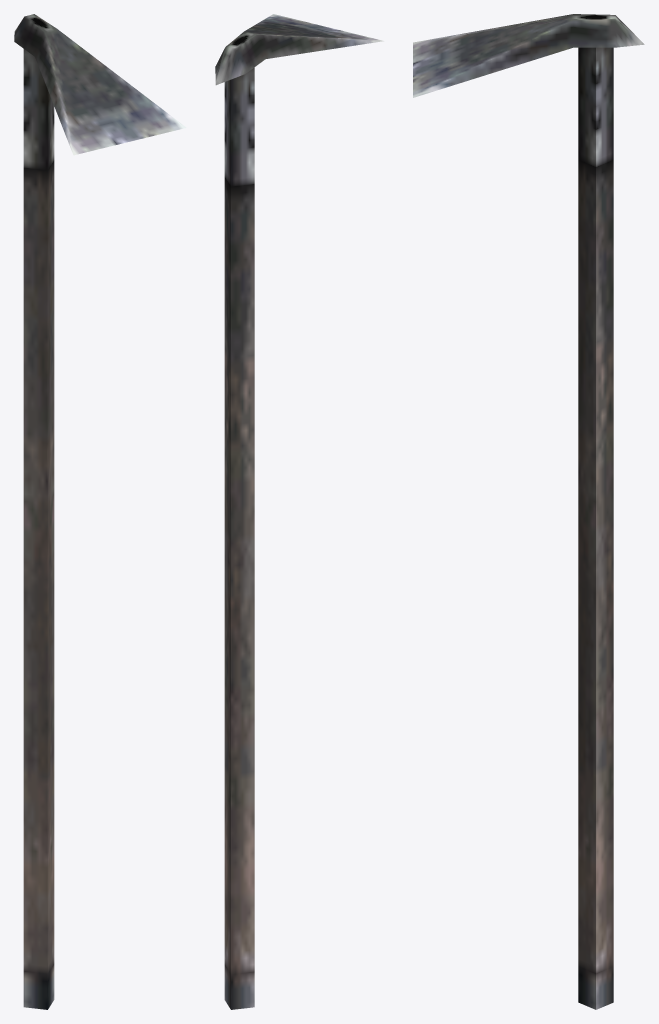
File: m_motyga1.glb
3 views of the same model, side by side, from view 1: azimuth 30°, elevation 25°; view 2: azimuth 150°, elevation 25°; view 3: azimuth 270°, elevation 25° (orthographic). The views are drawn at different scales.
Visible parts, largest first — view 1: m_motyga1; view 2: m_motyga1; view 3: m_motyga1.
Boxes of the visible parts, x1,y1,x2,y2 form: m_motyga1: (14,14,186,1009); m_motyga1: (215,14,383,1009); m_motyga1: (413,14,644,1009).
Size of the model in its own units: 0.1856 by 1.54 by 0.3277.
1 material, 1 textured.
